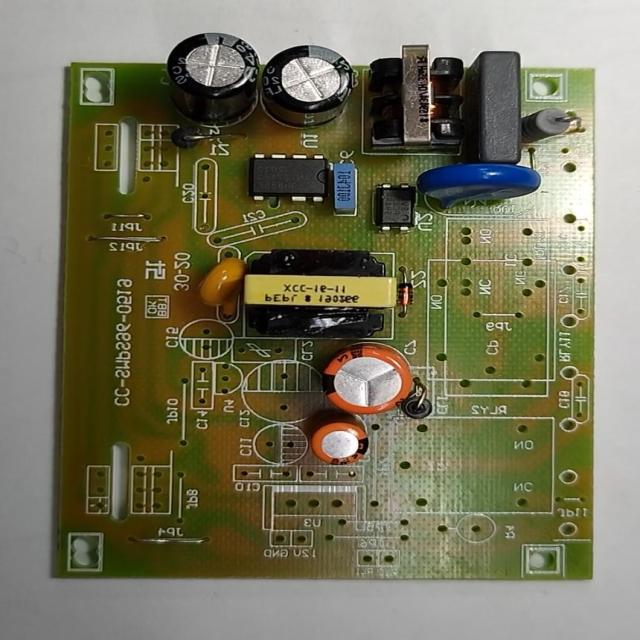Cap1: (314, 340, 424, 418)
Cap2: (299, 411, 372, 471)
Cap3: (248, 41, 362, 136)
Cap4: (155, 27, 271, 141)
MOSFET: (240, 150, 340, 207)
Mov: (407, 159, 549, 216)
Resistor: (513, 102, 581, 148)
Transformer: (235, 247, 403, 341), (362, 40, 471, 153)
